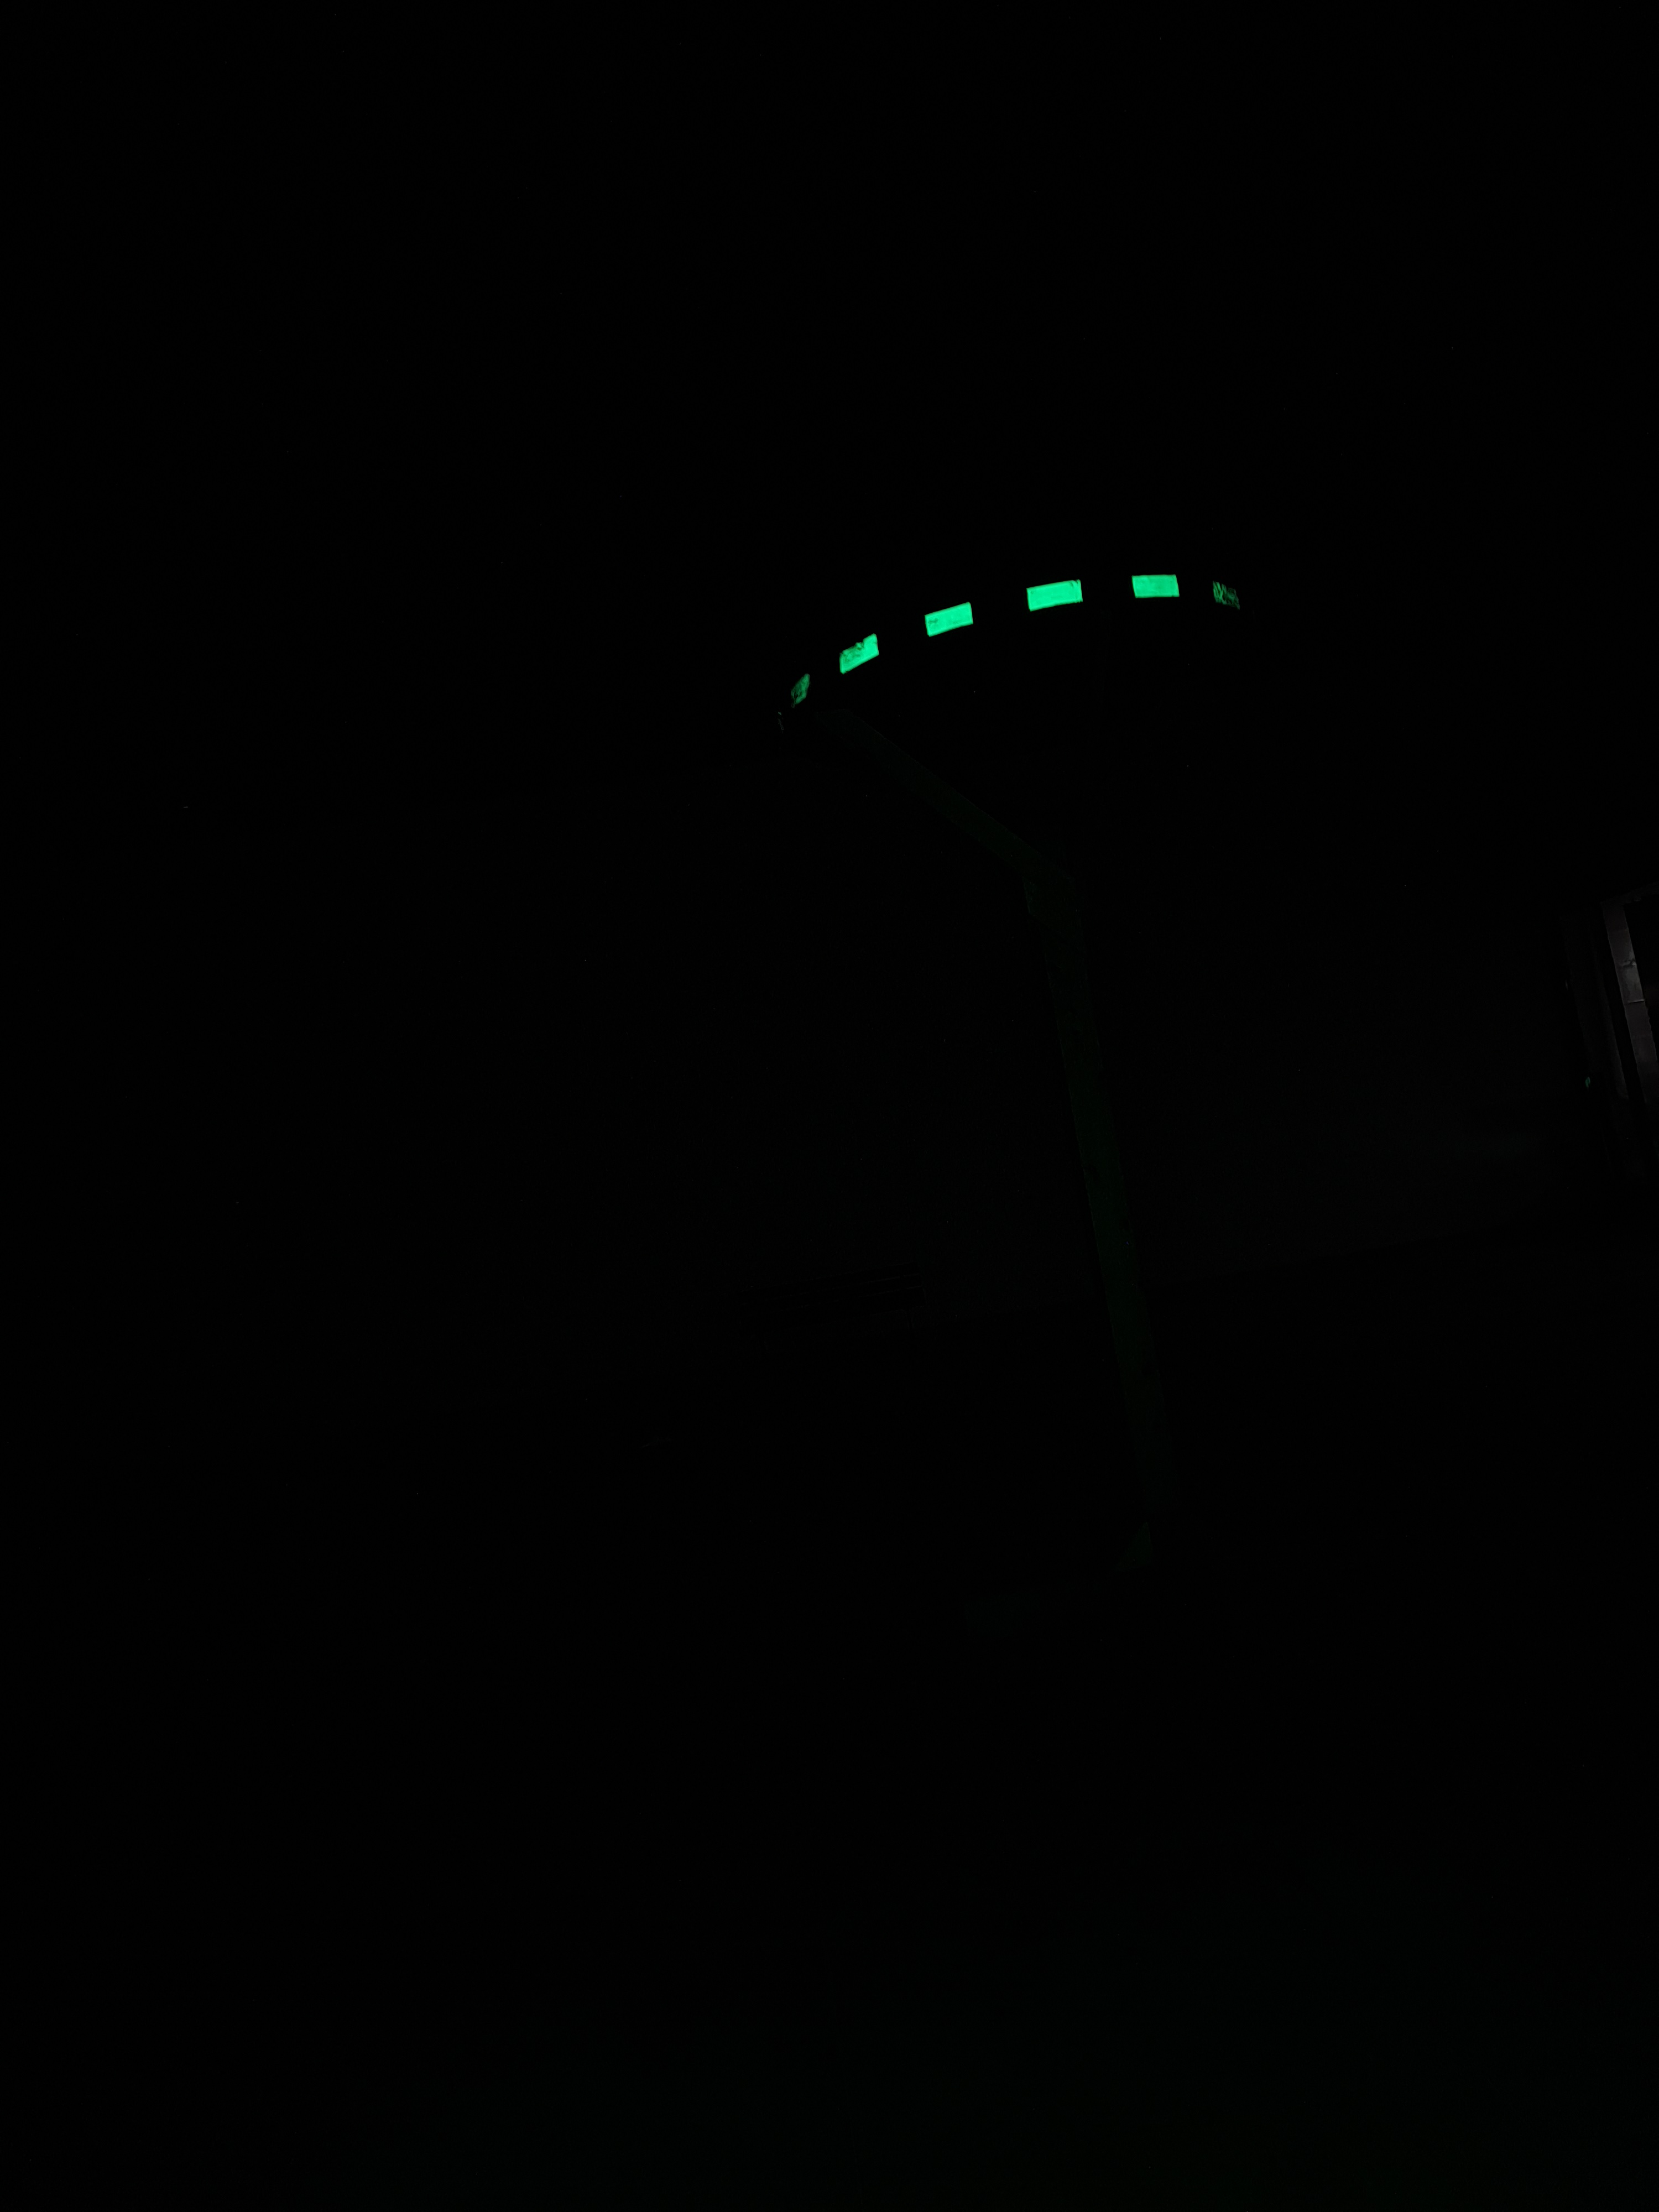hoop: (763, 540, 1267, 744)
